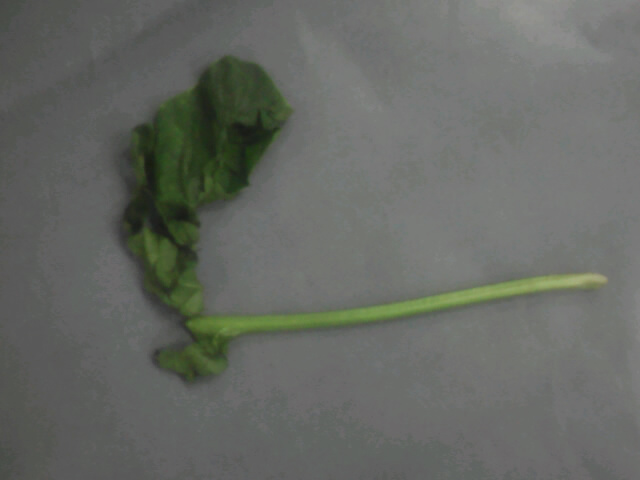yellow: (106, 35, 316, 400)
